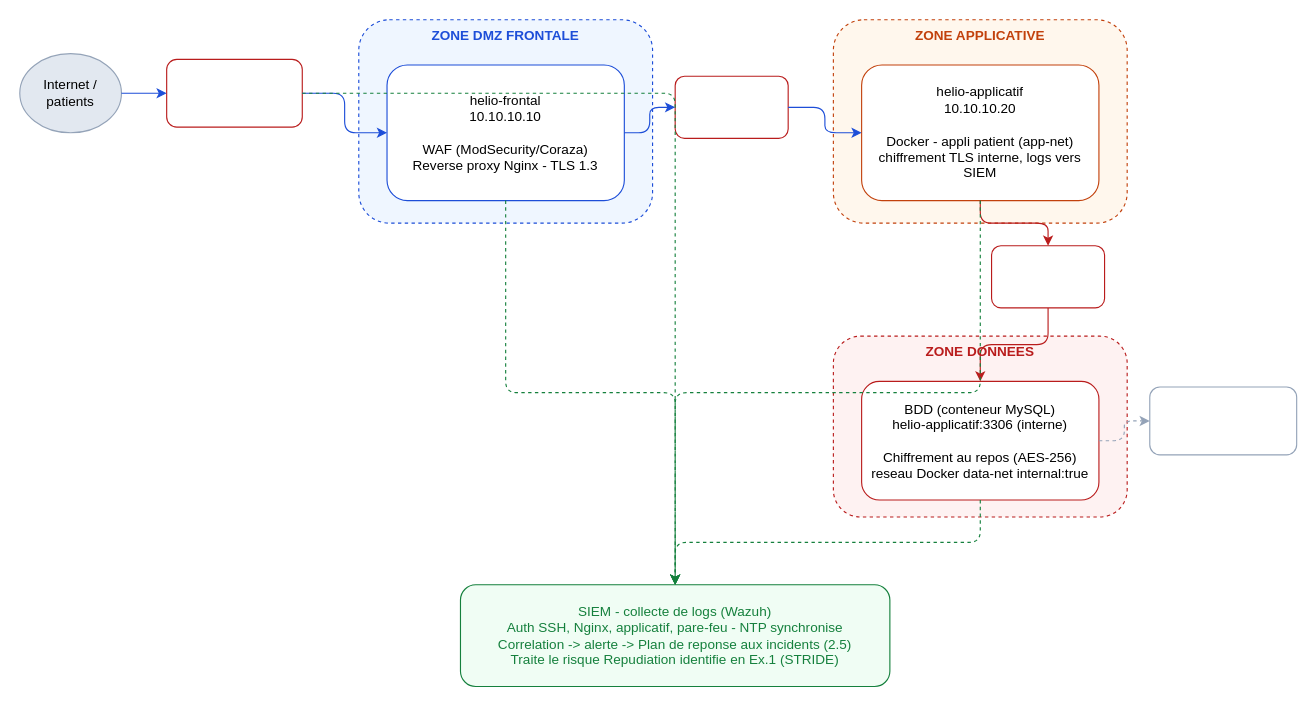
Image size: 1316x706. Some labels were removed from this diagram. The shapes that lost their labels are listed below. From the top down, each one's centre as x and y in pixels, then its label:
At (234,92): "Pare-feu perimetrique (pfSense) 443/tcp uniquement".
At (731,106): "Pare-feu interne #1 3000/tcp seul.".
At (1047,276): "Pare-feu interne #2 3306/tcp seul.".
At (1223,420): "Sauvegardes chiffrees, hors site RPO <= 24h".
